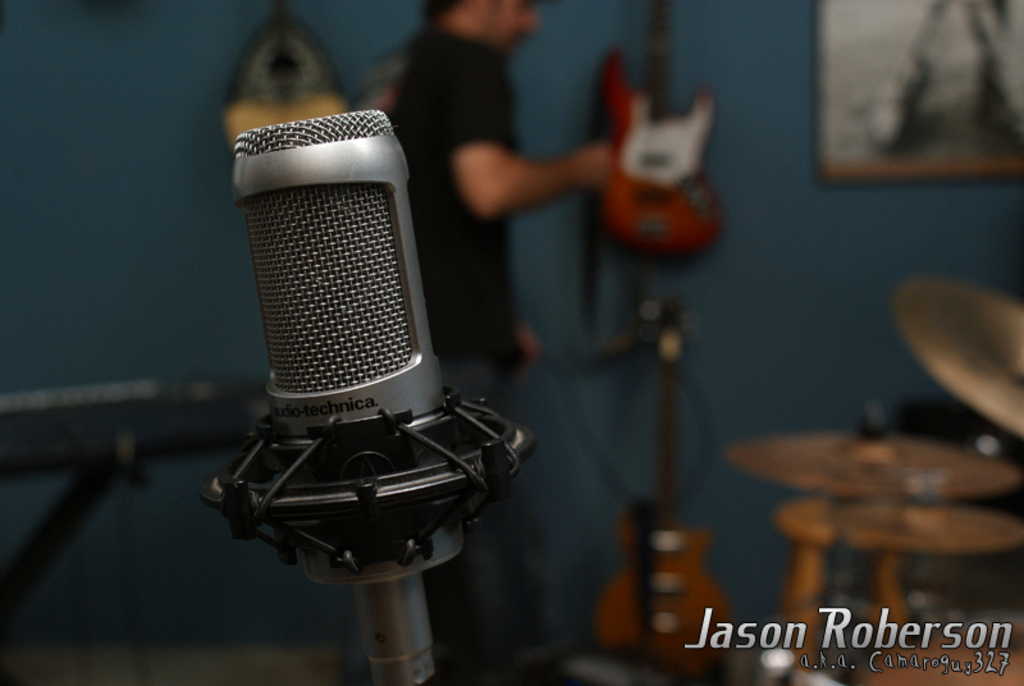Person: (391, 0, 612, 665)
